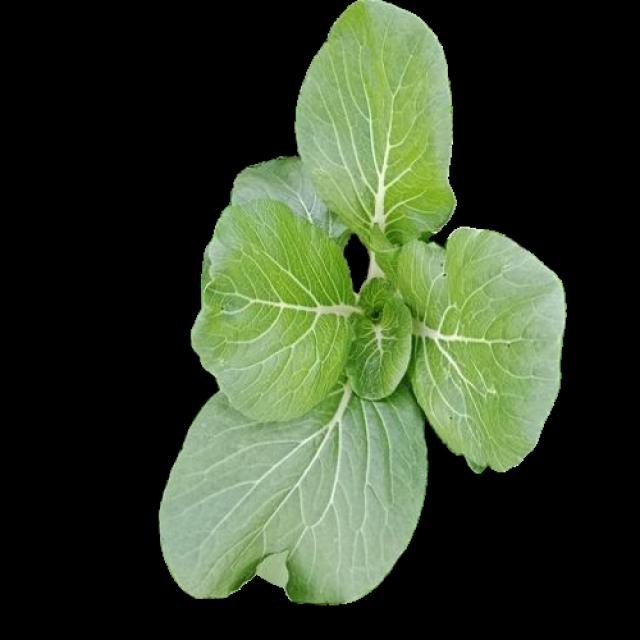healthy: (160, 4, 566, 602)
mature: (157, 1, 564, 599)
